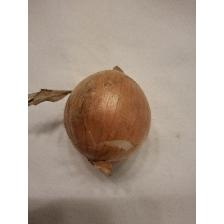Zwiebel: (28, 61, 156, 178)
